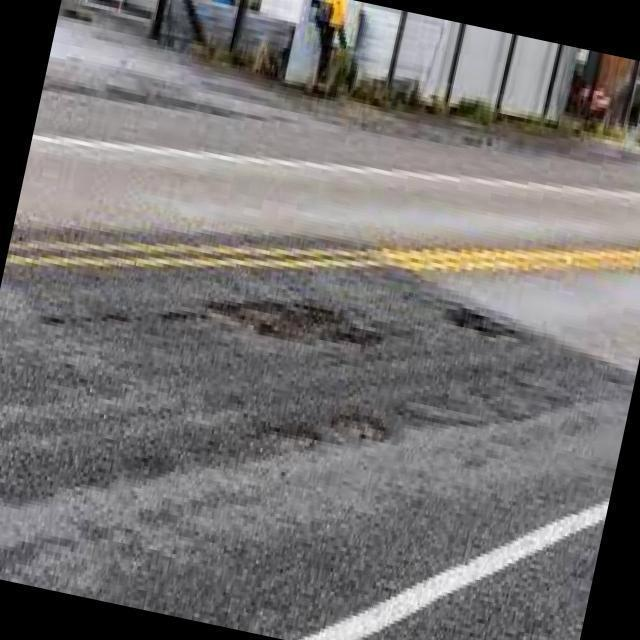pothole: (44, 296, 401, 353), (446, 306, 512, 338), (245, 424, 315, 447), (339, 418, 387, 442)
